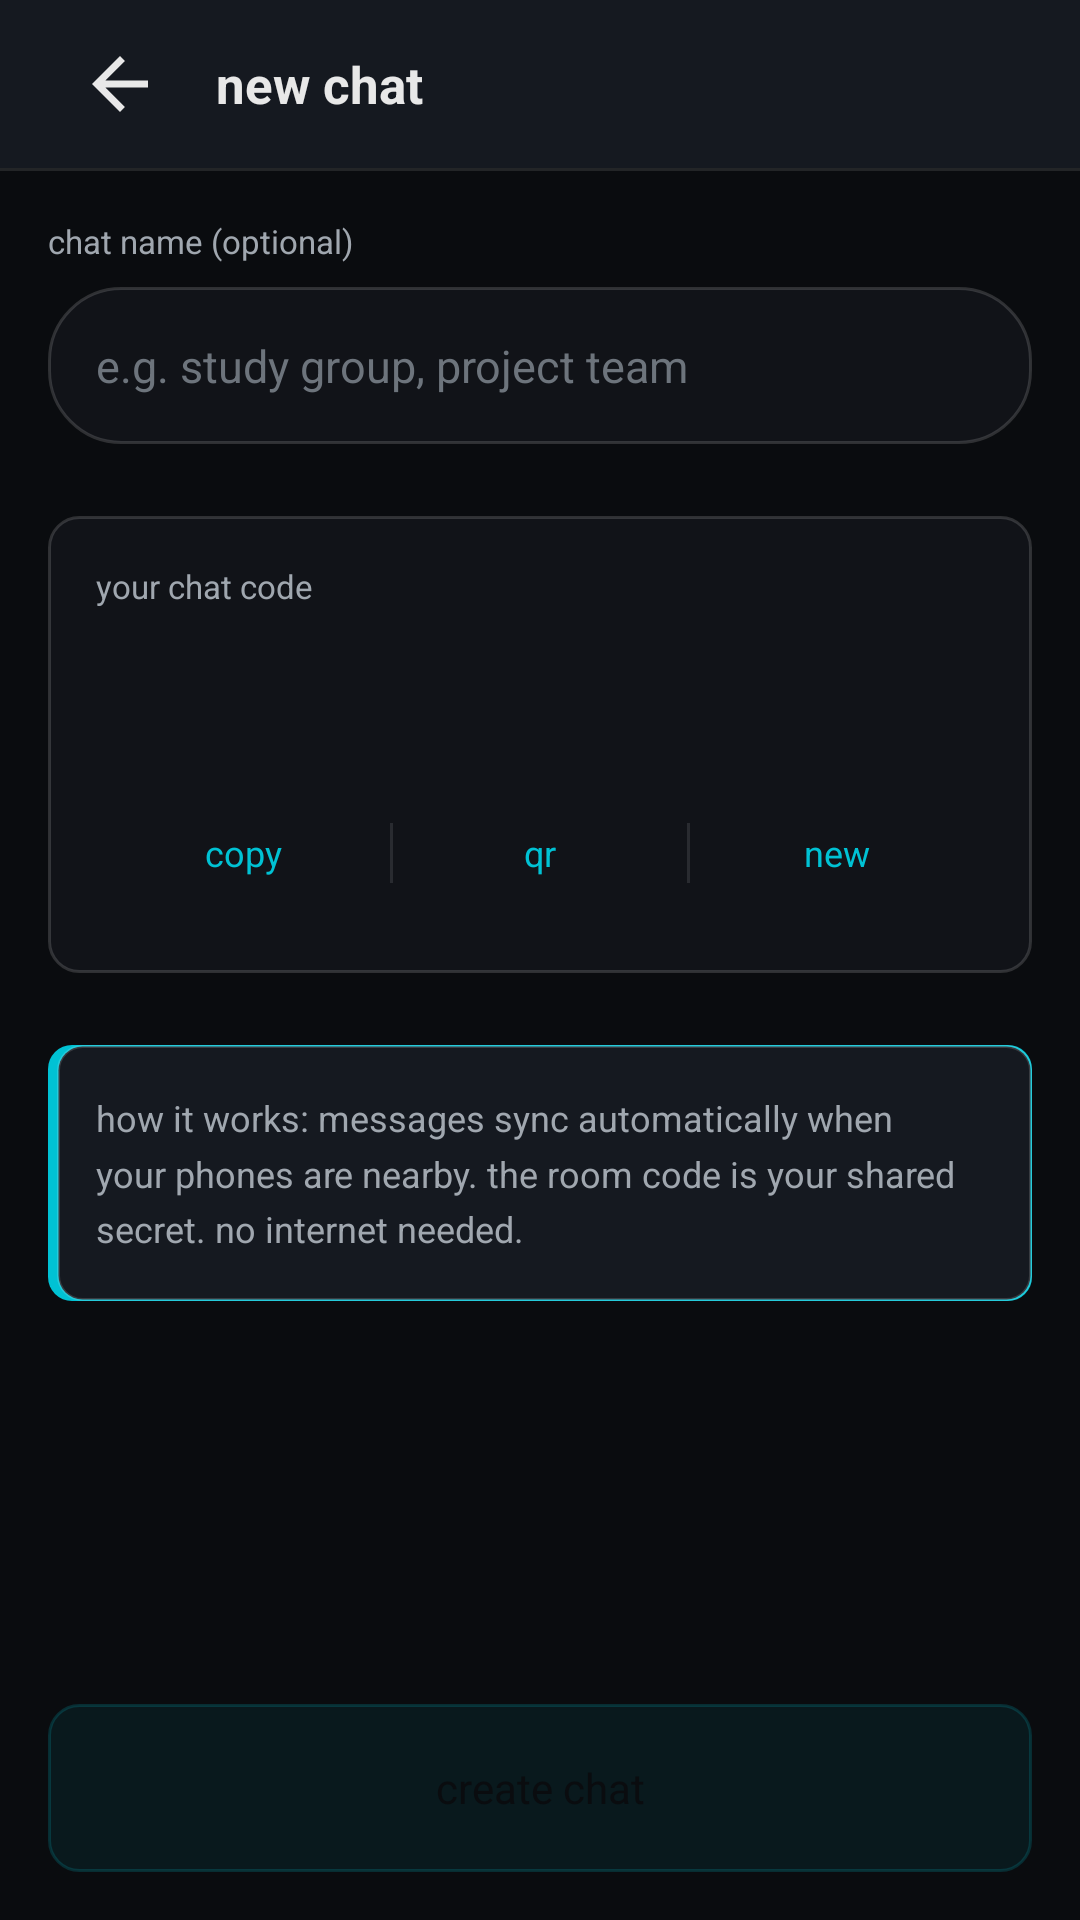

Named icons in this screenshot (1080w x 1920h) and their bounding boxes, Rect(x1, y1, x2, y2):
Back: Rect(92, 56, 148, 112)
